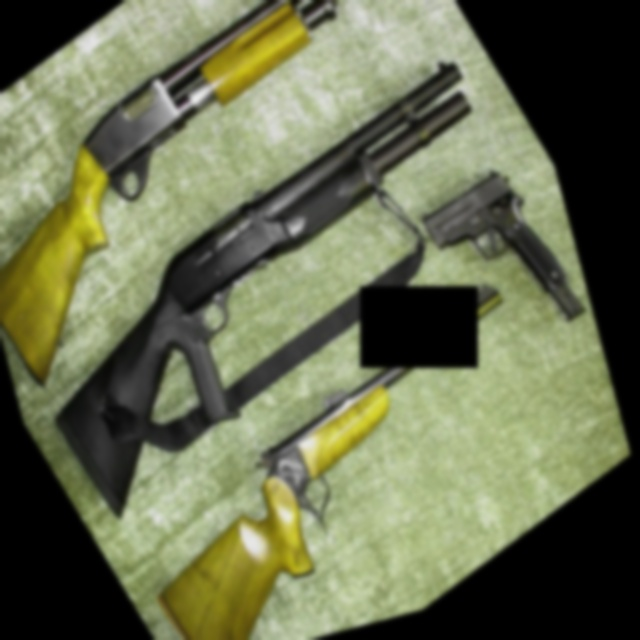gun: (67, 250, 624, 640)
